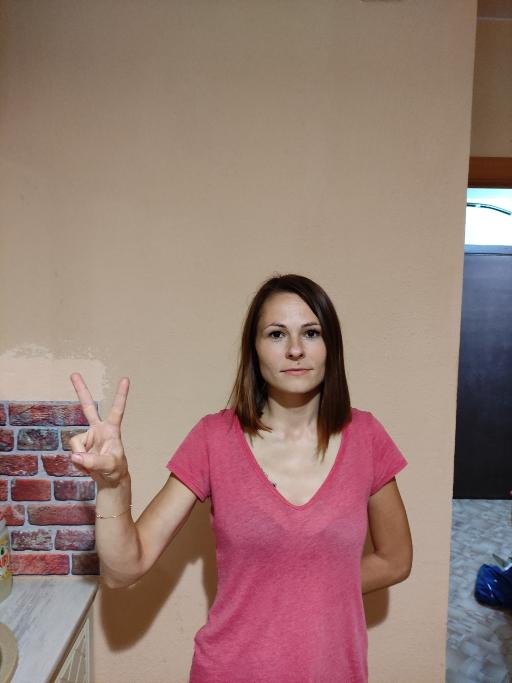peace: (65, 368, 133, 486)
